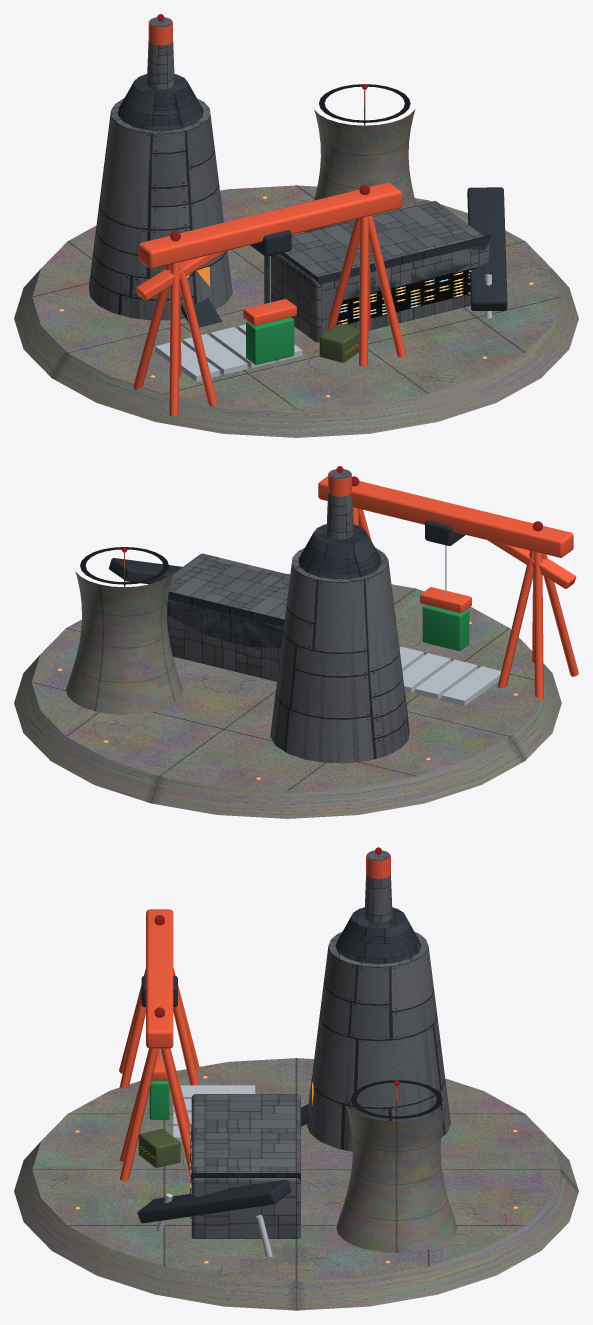
Rendered from steel-T1.glb.
The picture shows the model from 3 angles, top to bottom: view 1: azimuth 30°, elevation 25°; view 2: azimuth 150°, elevation 25°; view 3: azimuth 270°, elevation 25°; orthographic projection. The views are drawn at different scales.
Parts seen in each view (by area): view 1: object 1, object 12, object 22, object 37, object 18, object 42, anim:trolley, object 13, object 24, object 23, anim:smoke, object 31 (+12 smaller); view 2: object 1, object 12, object 18, object 22, object 37, object 23, anim:trolley, object 13, anim:smoke, object 29, object 30, object 25 (+6 smaller); view 3: object 1, object 12, object 18, object 22, object 37, object 13, object 42, anim:smoke, anim:trolley, object 36, object 45, object 34 (+4 smaller).
Part boxes in pixels (x1,y1,x2,y2): object 1: [14, 185, 578, 437]; object 12: [89, 98, 232, 320]; object 22: [264, 201, 489, 342]; object 37: [138, 182, 401, 268]; object 18: [304, 109, 416, 232]; object 42: [467, 187, 507, 310]; anim:trolley: [243, 230, 296, 364]; object 13: [118, 74, 203, 130]; object 24: [336, 267, 475, 324]; object 23: [279, 235, 490, 297]; anim:smoke: [146, 17, 174, 89]; object 31: [169, 262, 179, 416]; object 1: [14, 574, 561, 818]; object 12: [270, 547, 409, 763]; object 18: [66, 570, 182, 714]; object 22: [167, 553, 290, 681]; object 37: [318, 476, 573, 557]; object 23: [167, 591, 284, 648]; anim:trolley: [420, 520, 471, 651]; object 13: [298, 524, 381, 579]; anim:smoke: [326, 469, 353, 539]; object 29: [533, 552, 543, 700]; object 30: [497, 550, 534, 688]; object 25: [441, 666, 501, 705]; object 1: [14, 1058, 578, 1310]; object 12: [306, 931, 450, 1151]; object 18: [336, 1104, 457, 1252]; object 22: [191, 1094, 300, 1238]; object 37: [146, 909, 173, 1048]; object 13: [335, 907, 421, 964]; object 42: [137, 1180, 291, 1223]; anim:smoke: [364, 850, 392, 922]; anim:trolley: [141, 975, 177, 1119]; object 36: [120, 1048, 158, 1180]; object 45: [138, 1128, 180, 1167]; object 34: [160, 1048, 191, 1179].
Size of the model in its own units: 6.2 by 3.6 by 6.2.
18 materials, 6 textured.
